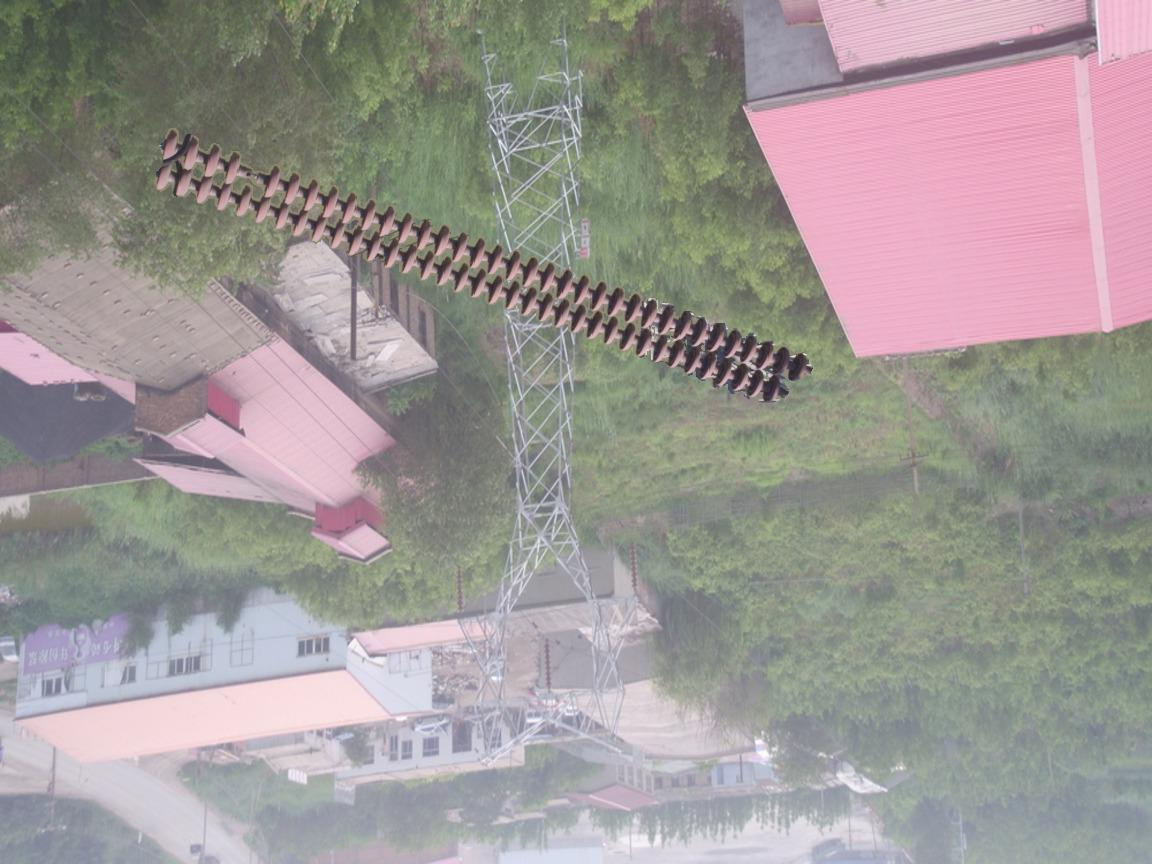insulator: (153, 127, 811, 406), (540, 635, 556, 689), (626, 538, 641, 589), (453, 561, 468, 612)
insulator_stringdrop: (221, 149, 283, 200)
